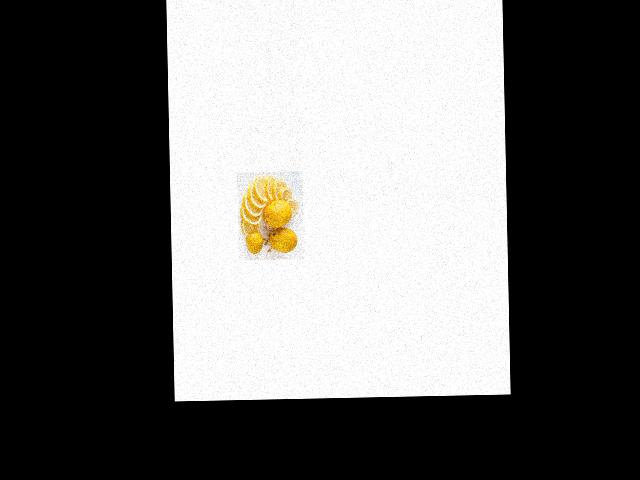lemon: (246, 232, 265, 253)
